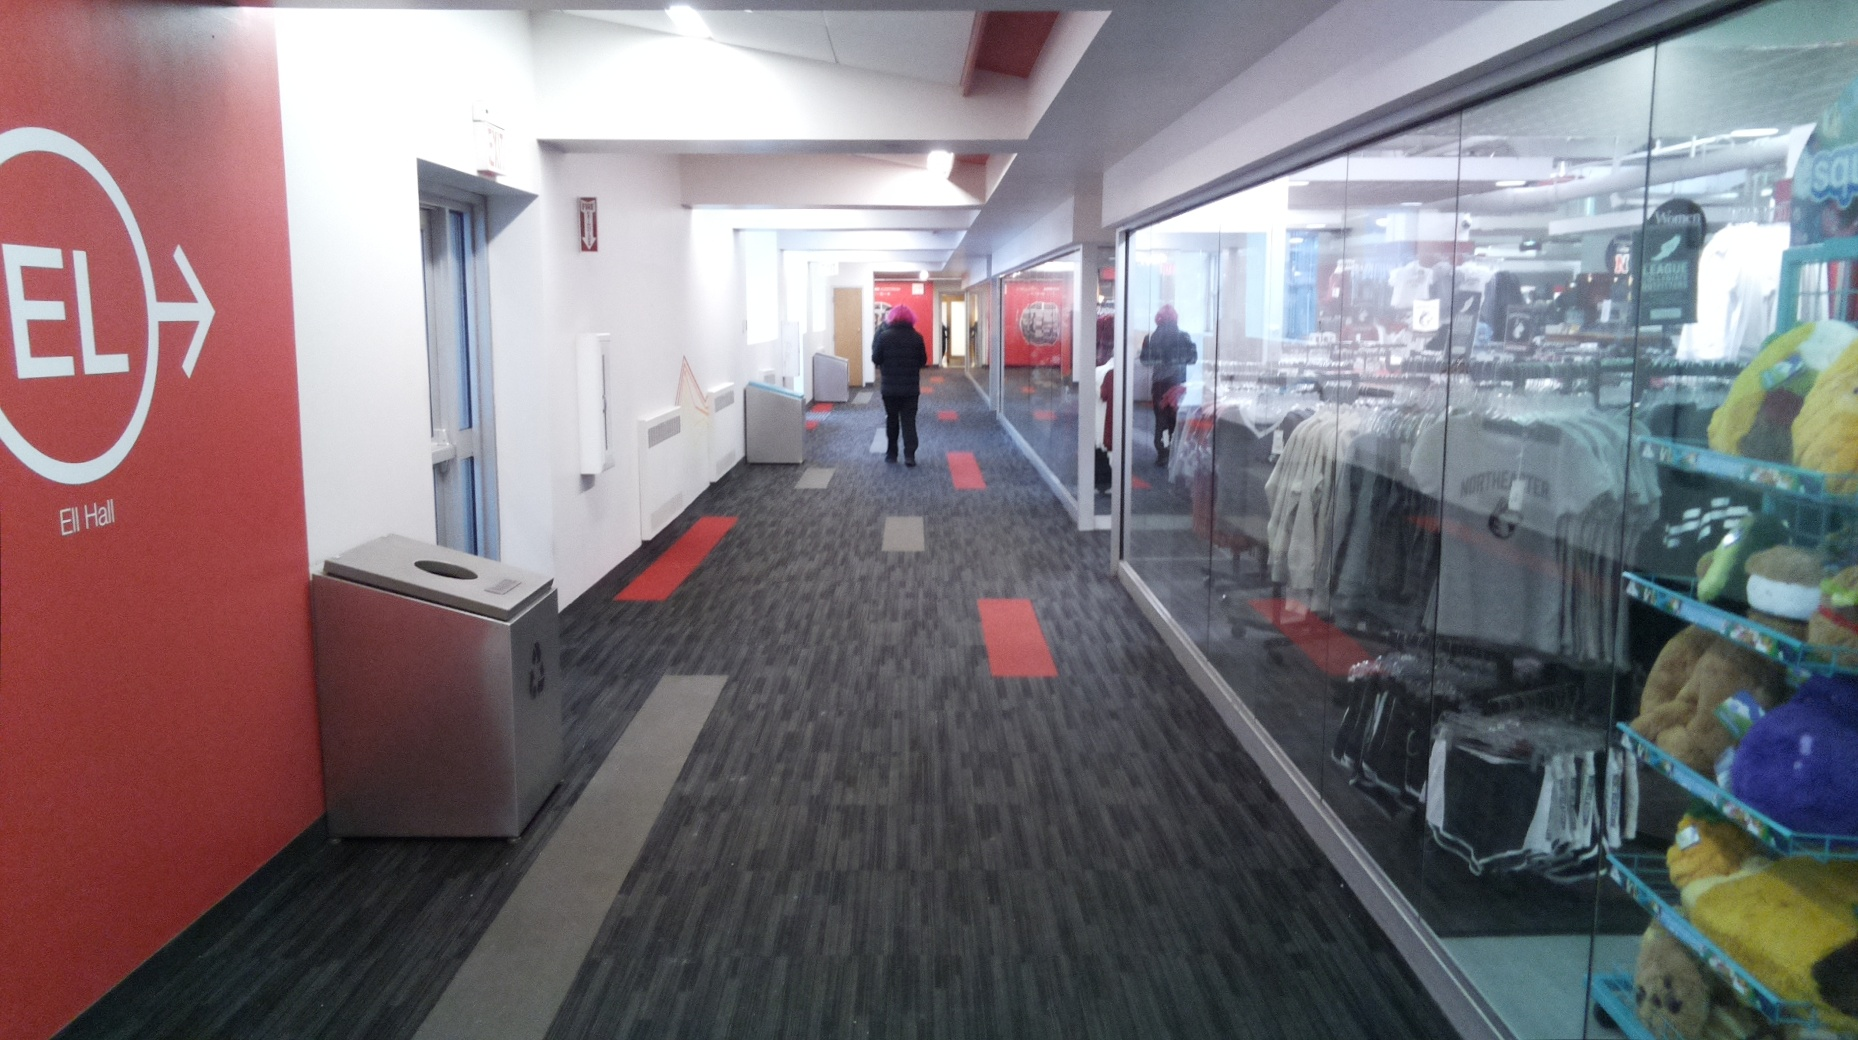exit sign: (472, 120, 507, 177), (818, 262, 840, 278), (911, 282, 925, 296)
